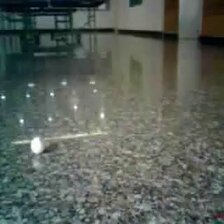w: (30, 136, 44, 154)
